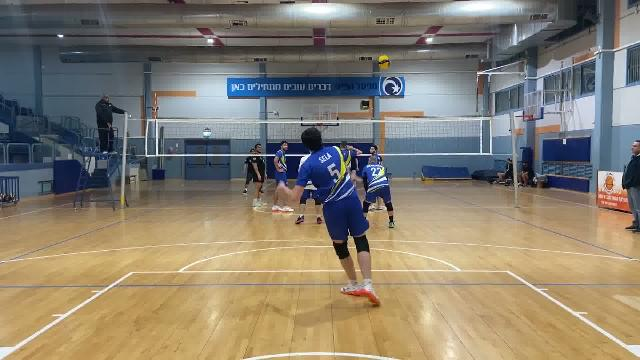ball: (377, 54, 393, 69)
